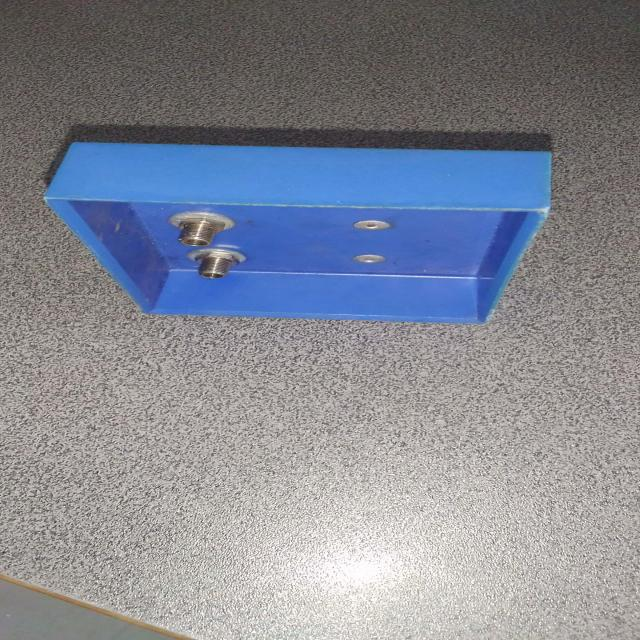L Switch: (22, 125, 584, 332)
